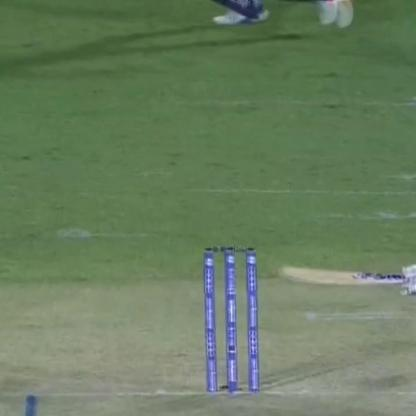bat: (276, 250, 414, 294)
